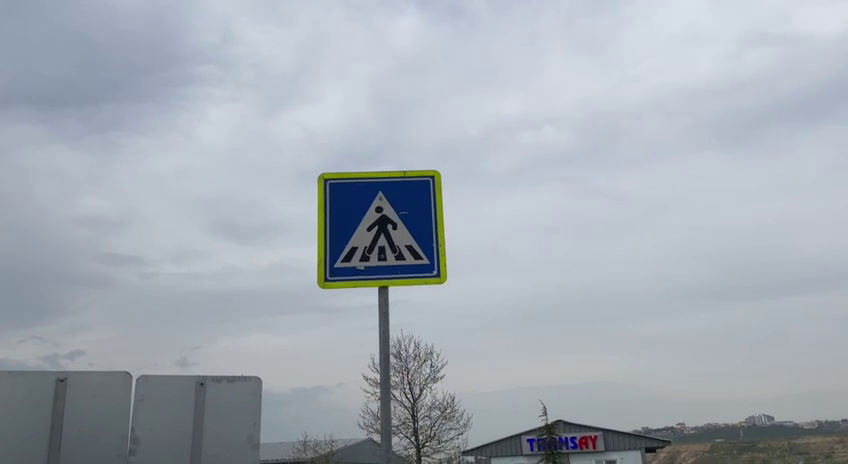pedestrianCrossing: (316, 169, 450, 289)
